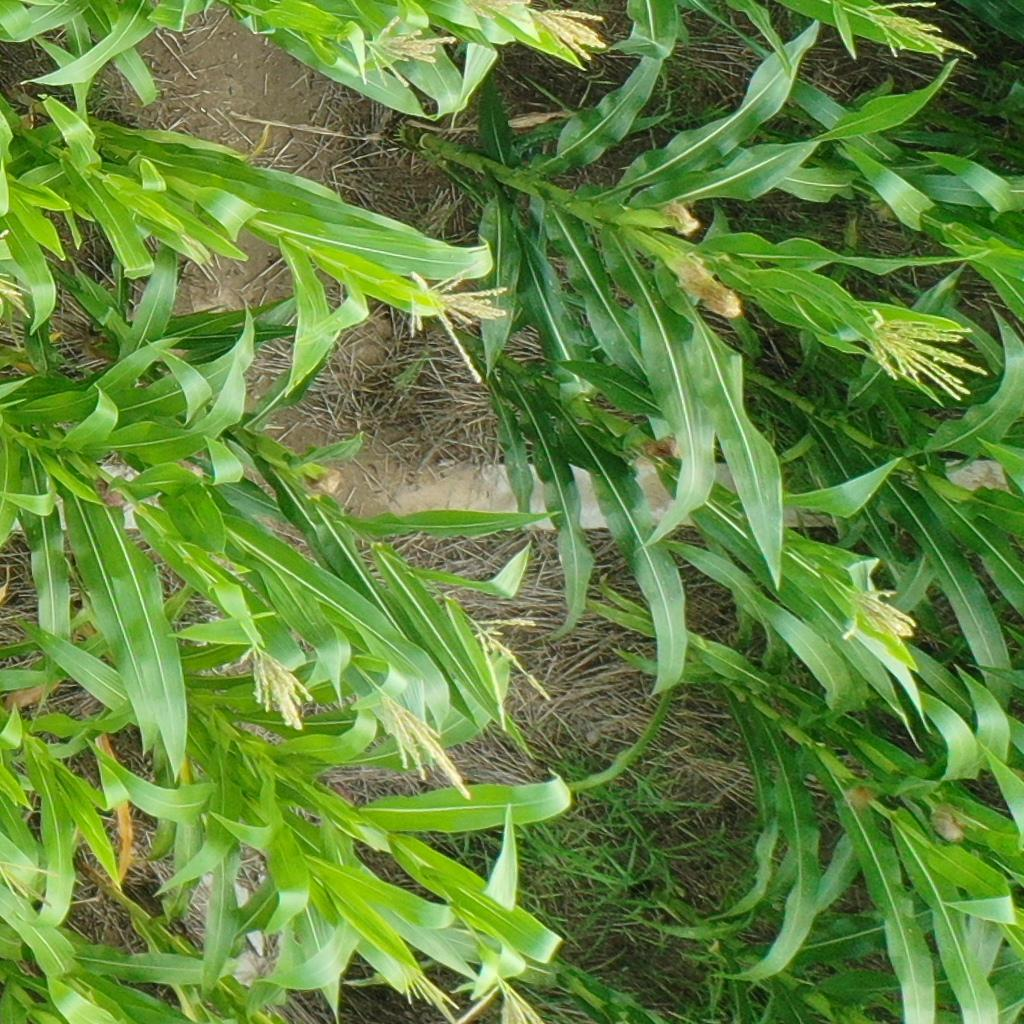Tassel: (401, 269, 509, 388), (857, 307, 991, 402), (372, 692, 474, 801), (470, 614, 552, 734), (851, 1, 977, 61), (359, 17, 457, 92), (237, 638, 315, 731), (839, 583, 916, 648), (532, 1, 606, 61), (397, 961, 460, 1021), (1, 854, 63, 910), (496, 974, 545, 1024), (177, 232, 216, 278), (1, 270, 33, 320), (461, 1, 534, 21)
